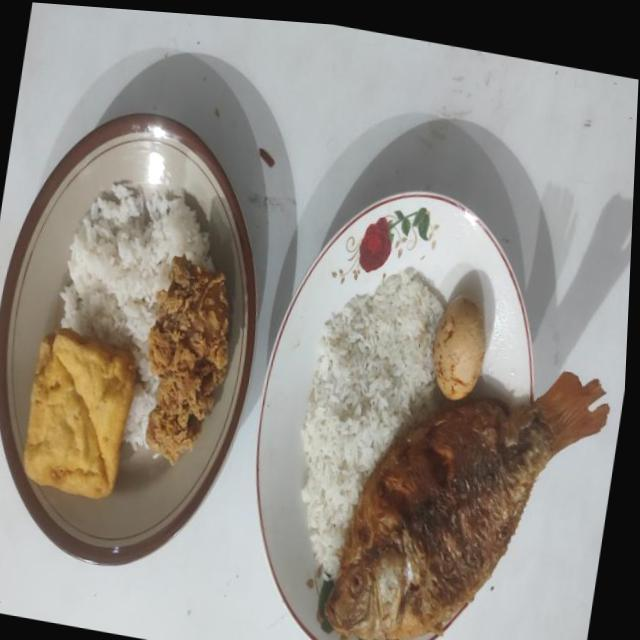ikan_mujair: (326, 373, 608, 640)
nasi_putih: (301, 270, 443, 573), (60, 180, 214, 449)
tahu_goreng: (23, 328, 136, 498)
